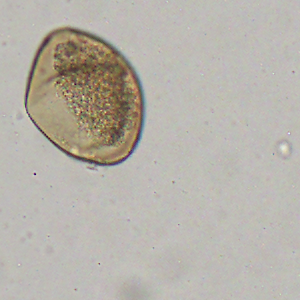Fasciola_hepatica_egg: (23, 25, 147, 167)
